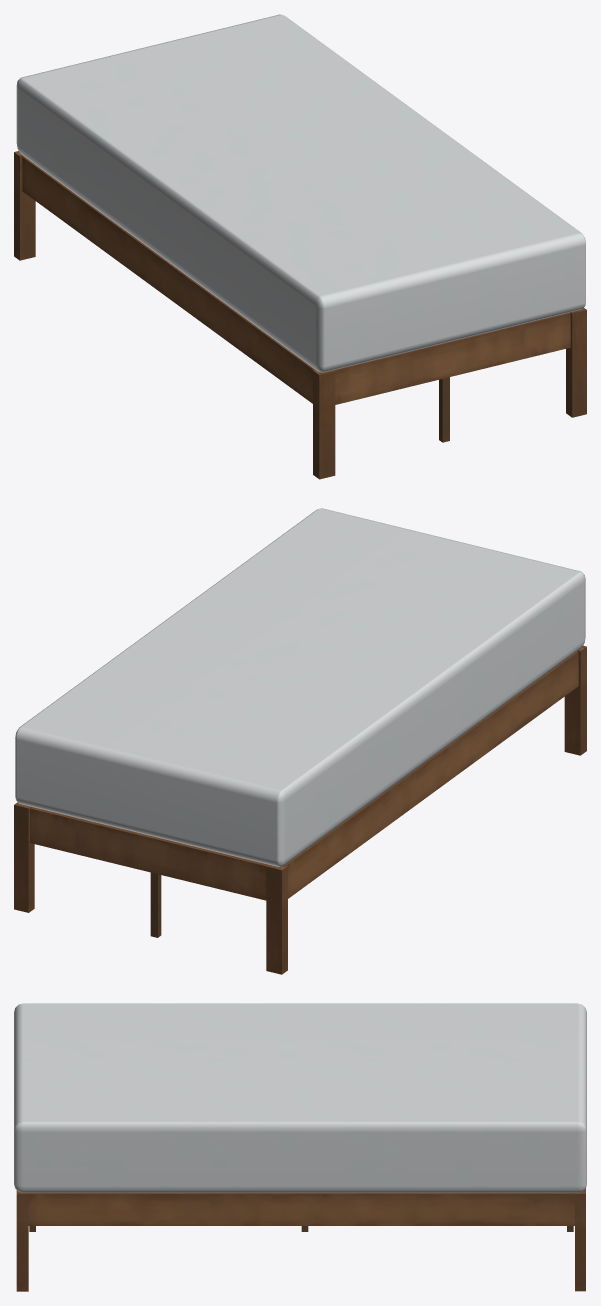
The picture shows the model from 3 angles, top to bottom: view 1: azimuth 30°, elevation 25°; view 2: azimuth 150°, elevation 25°; view 3: azimuth 270°, elevation 25°; orthographic projection. The views are drawn at different scales.
Parts seen in each view (by area): view 1: RootNode; view 2: RootNode; view 3: RootNode.
Part boxes in pixels (x1,y1,x2,y2): RootNode: (14,14,586,479); RootNode: (14,508,586,974); RootNode: (14,1003,586,1291).
Bounding box in the file's own units: 0.9611 × 0.616 × 1.9.
Materials: 1 (1 with a texture image).
